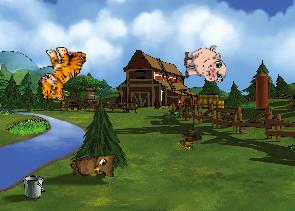owl: (68, 148, 121, 188)
pig: (182, 45, 226, 85)
tiger: (39, 45, 86, 101)
